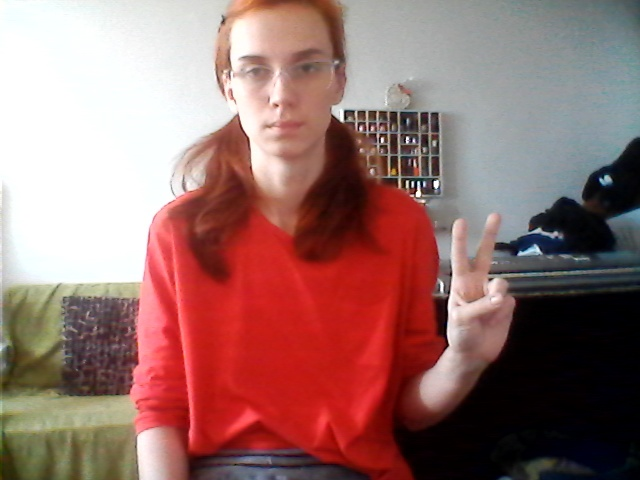v: (432, 203, 526, 369)
